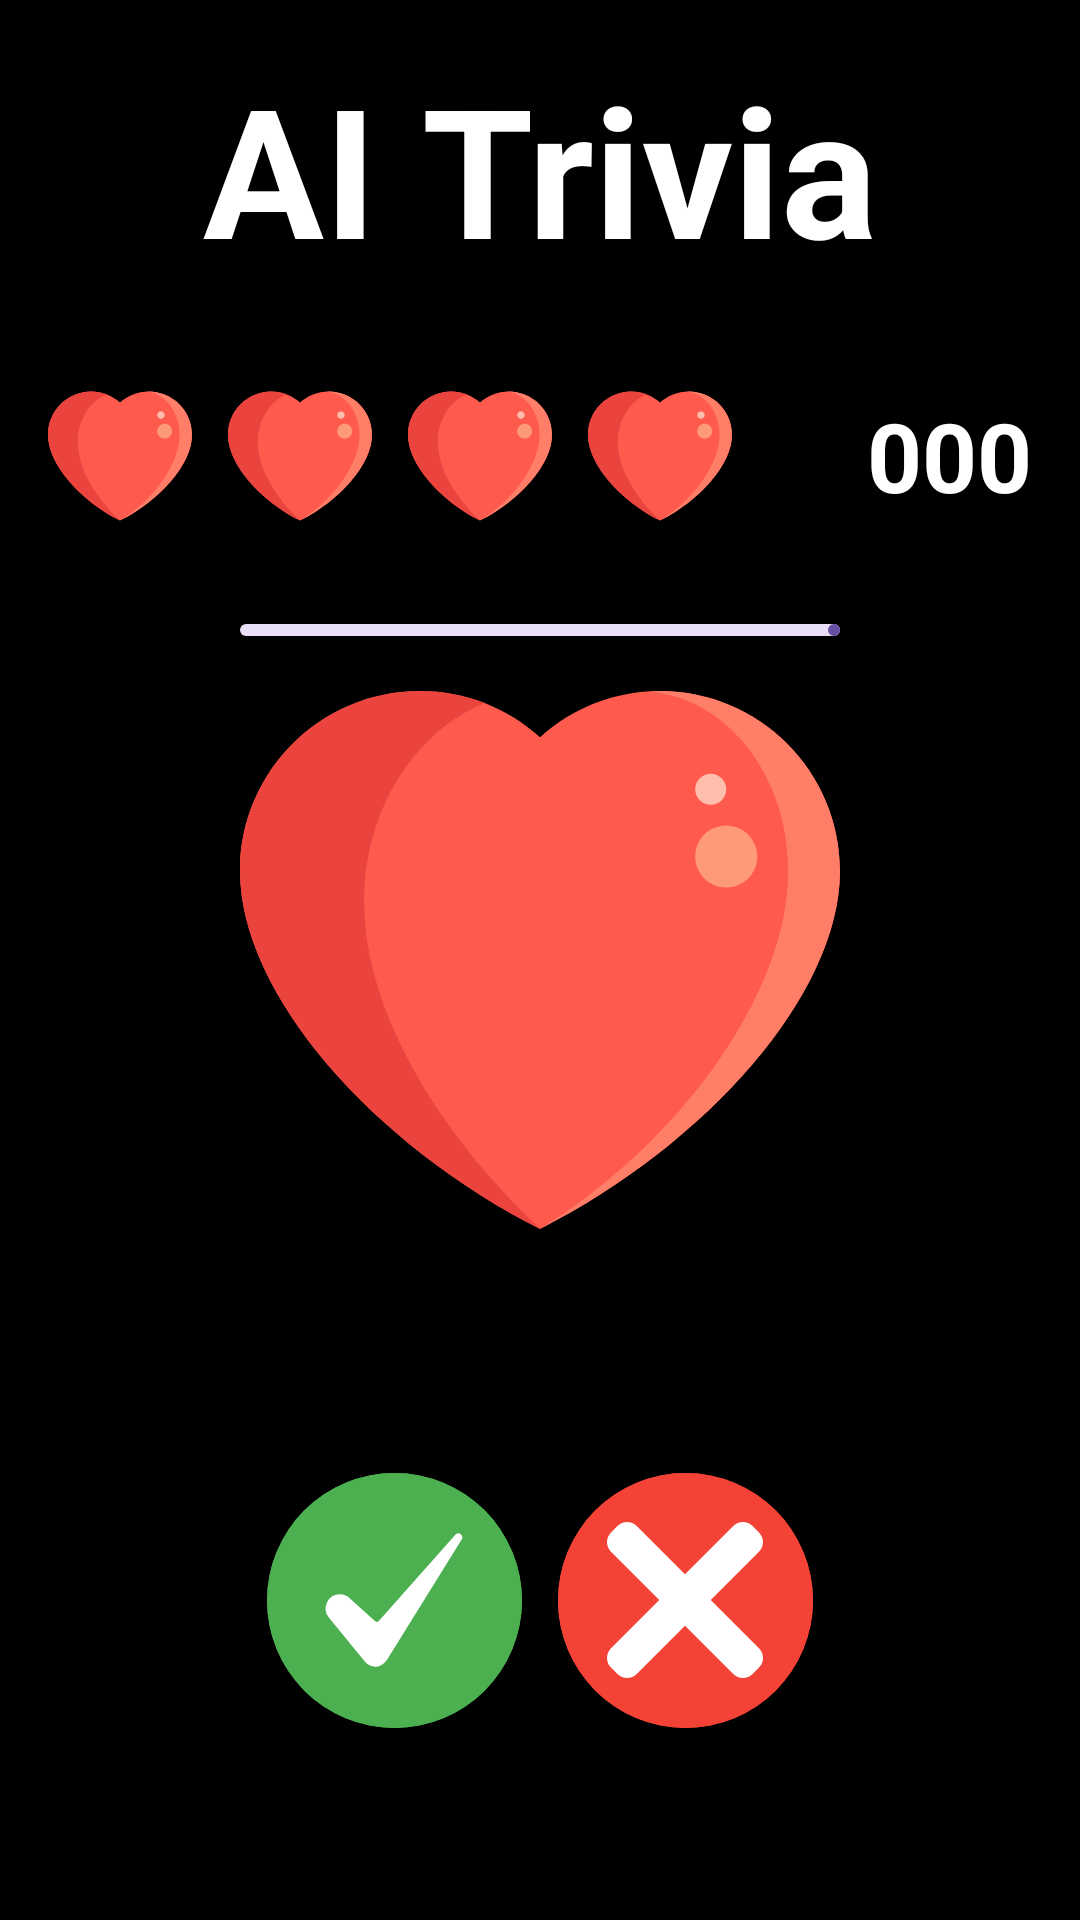

Icons on this 1080x1920 Android screen, each with its box as (x1, y1, x2, y2):
checked: (267, 1473, 522, 1728)
cross: (558, 1473, 813, 1728)
